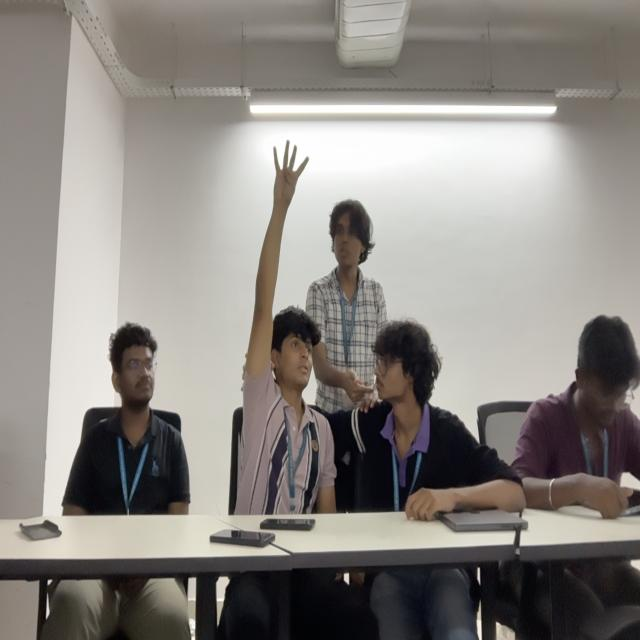Isolated: (61, 320, 192, 516), (518, 308, 640, 512)
socializing: (238, 139, 513, 523)
